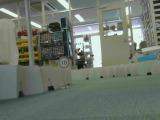speed_10: (58, 57, 70, 68)
